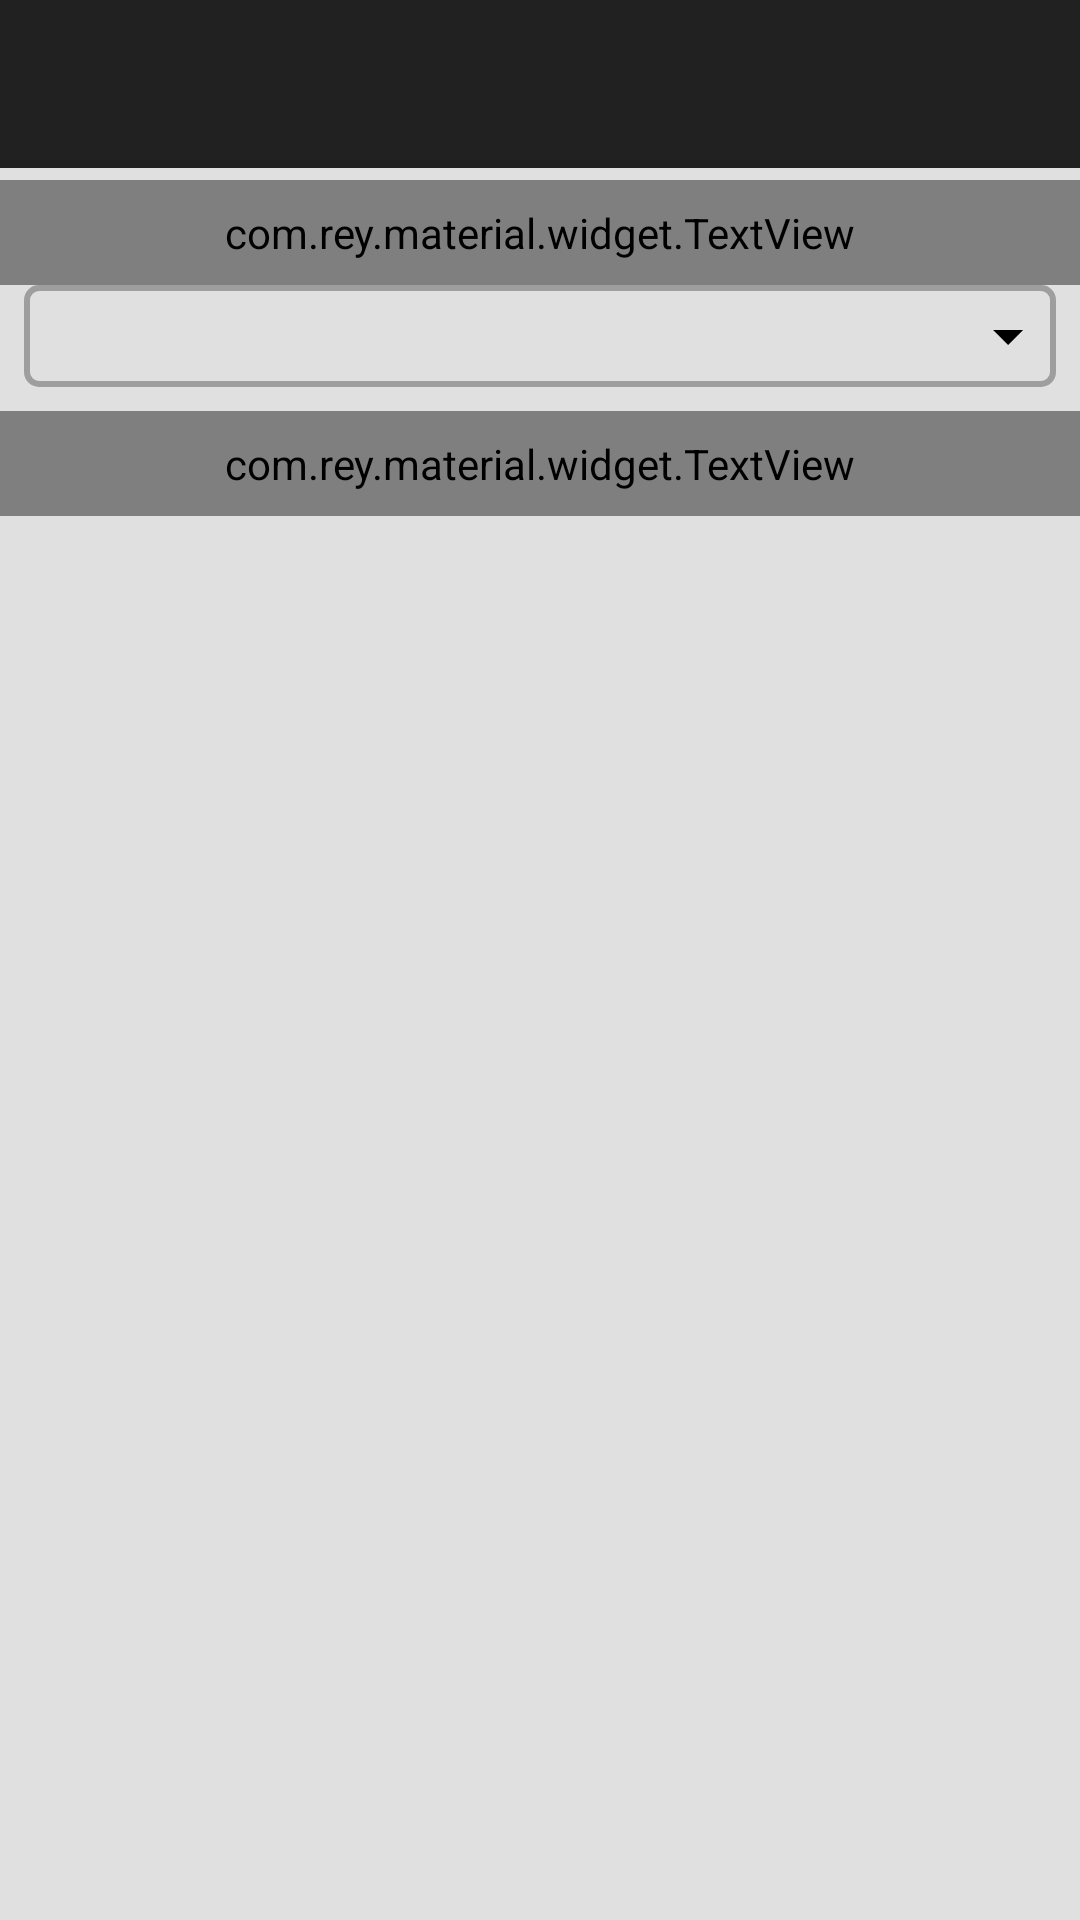

Icons on this 1080 x 1920 Android screen, each with the point to tap as [x,y]:
down: [1008,337]
